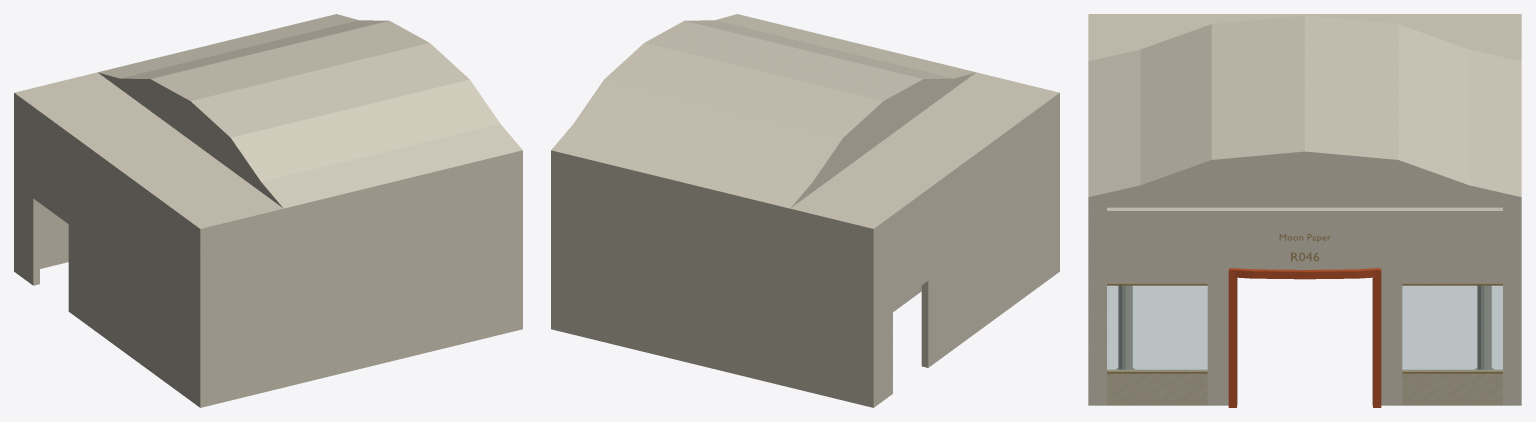
The model's file is SHOP_D09_P100_A262__shell.glb.
3 renders of one model, left to right at view 1: azimuth 30°, elevation 25°; view 2: azimuth 150°, elevation 25°; view 3: azimuth 270°, elevation 25°, orthographic. The views are drawn at different scales.
Visible parts, largest first — view 1: SHOP_D09_P100_A262__shell__ivory_enamel; view 2: SHOP_D09_P100_A262__shell__ivory_enamel; view 3: SHOP_D09_P100_A262__shell__ivory_enamel, SHOP_D09_P100_A262__shell__shop_glass, SHOP_D09_P100_A262__shell__warm_stone, SHOP_D09_P100_A262__shell__retail_terracotta_enamel, SHOP_D09_P100_A262__shell__champagne_metal.
Part boxes in pixels (bbox=[...]): SHOP_D09_P100_A262__shell__ivory_enamel: bbox=[14, 14, 522, 407]; SHOP_D09_P100_A262__shell__ivory_enamel: bbox=[551, 14, 1059, 407]; SHOP_D09_P100_A262__shell__ivory_enamel: bbox=[1088, 14, 1521, 405]; SHOP_D09_P100_A262__shell__shop_glass: bbox=[1107, 286, 1502, 370]; SHOP_D09_P100_A262__shell__warm_stone: bbox=[1107, 368, 1502, 405]; SHOP_D09_P100_A262__shell__retail_terracotta_enamel: bbox=[1228, 268, 1381, 407]; SHOP_D09_P100_A262__shell__champagne_metal: bbox=[1107, 234, 1502, 373].
Bounding box in the file's own units: 11.86 × 7.5 × 11.6.
Materials: 6 (4 with a texture image).
